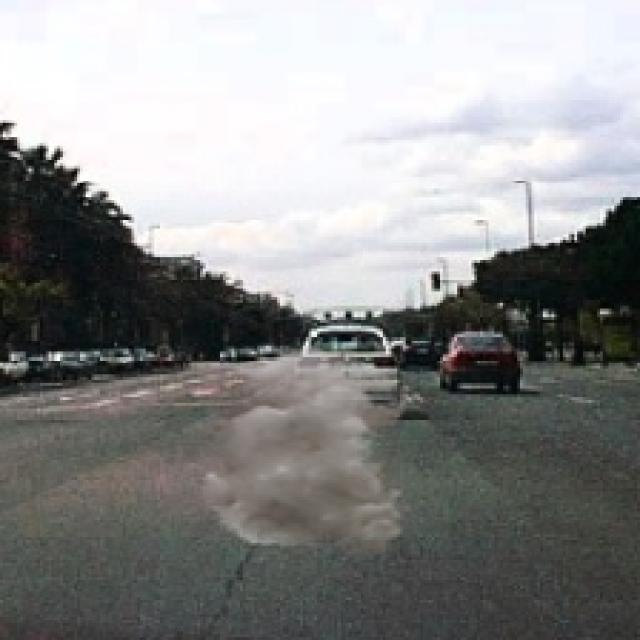smoke: (172, 346, 414, 557)
